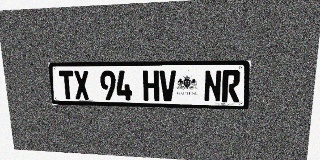4: (116, 70, 132, 100)
9: (100, 70, 116, 100)
H: (143, 70, 159, 101)
N: (204, 70, 222, 102)
R: (222, 70, 241, 102)
T: (59, 71, 75, 99)
V: (159, 70, 176, 101)
X: (73, 71, 90, 100)
